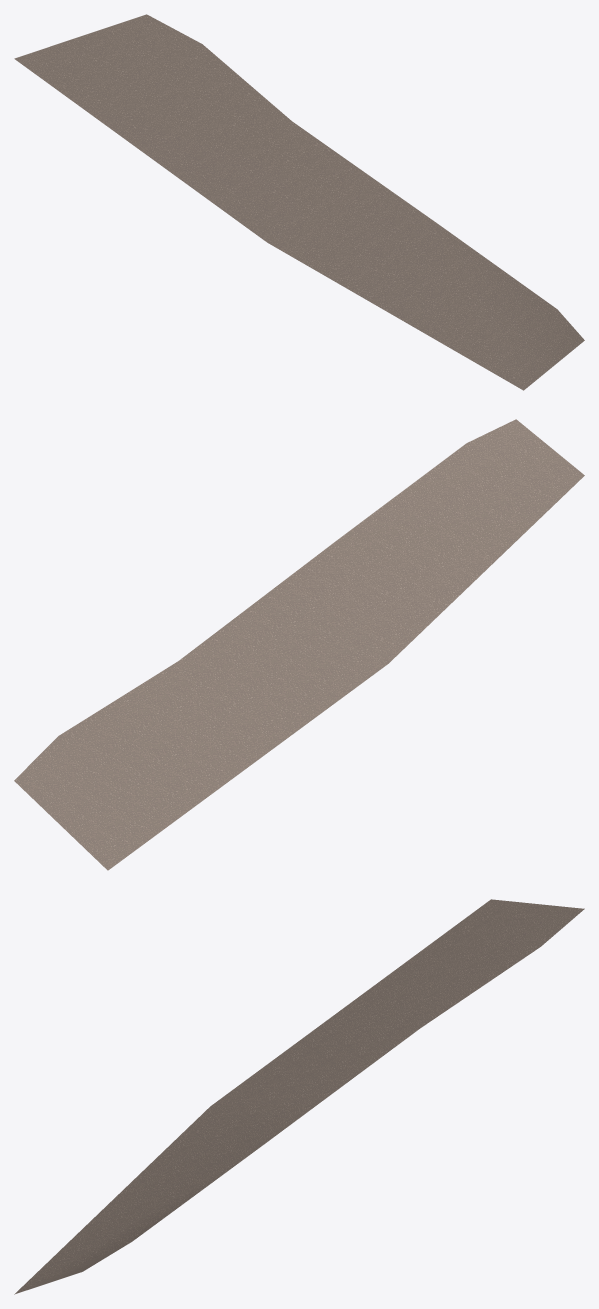
File: kd_stage_1366d7_0_20_bounded.glb
3 views of the same model, one above another, from view 1: azimuth 30°, elevation 25°; view 2: azimuth 150°, elevation 25°; view 3: azimuth 330°, elevation 25° (orthographic). The views are drawn at different scales.
Parts seen in each view (by area): view 1: kd_stage_1366d7_0_20_bounded; view 2: kd_stage_1366d7_0_20_bounded; view 3: kd_stage_1366d7_0_20_bounded.
Part boxes in pixels (box(x1,y1,x2,y2)): kd_stage_1366d7_0_20_bounded: box(14, 14, 584, 390); kd_stage_1366d7_0_20_bounded: box(14, 419, 584, 870); kd_stage_1366d7_0_20_bounded: box(14, 899, 584, 1294).
Size of the model in its own units: 4.13 by 1.32 by 28.71.
Materials: 1 (1 with a texture image).
